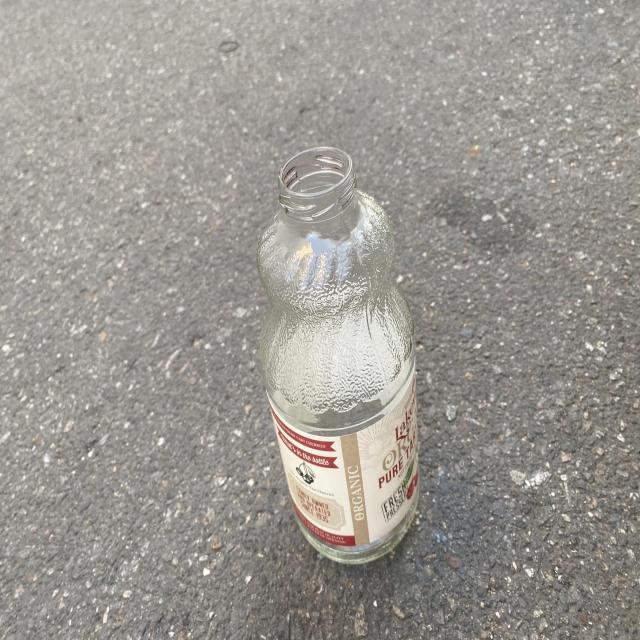glass: (257, 147, 420, 564)
